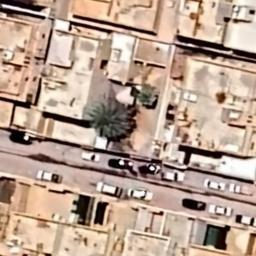pickup: (34, 168, 64, 184), (227, 182, 256, 198)
sedan: (94, 180, 126, 198), (127, 187, 155, 204), (181, 196, 206, 214), (7, 130, 35, 146), (209, 203, 234, 219), (236, 211, 256, 230), (108, 156, 134, 170), (138, 162, 162, 176)
van: (160, 170, 186, 183), (203, 178, 227, 192), (80, 150, 102, 163)
